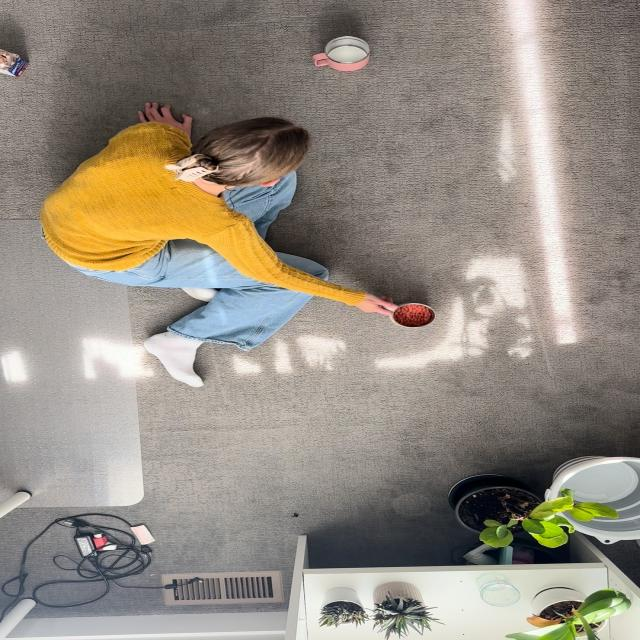IBC: (312, 36, 370, 72), (392, 303, 435, 327)
